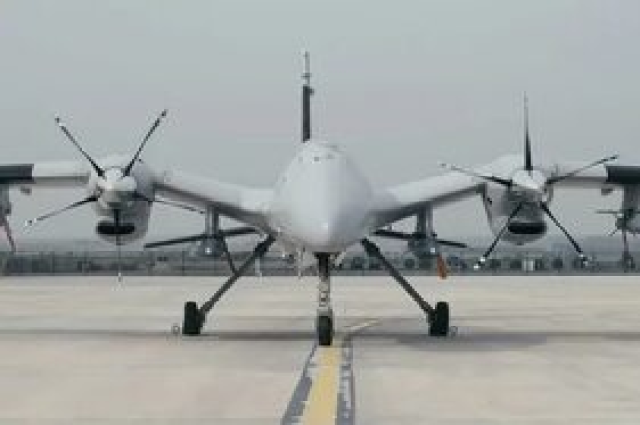military drone: (0, 49, 640, 345)
